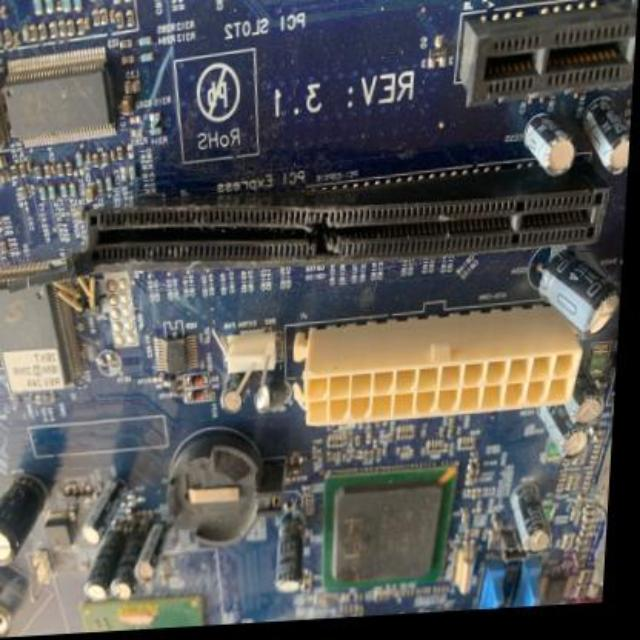PCB: (1, 0, 634, 634)
